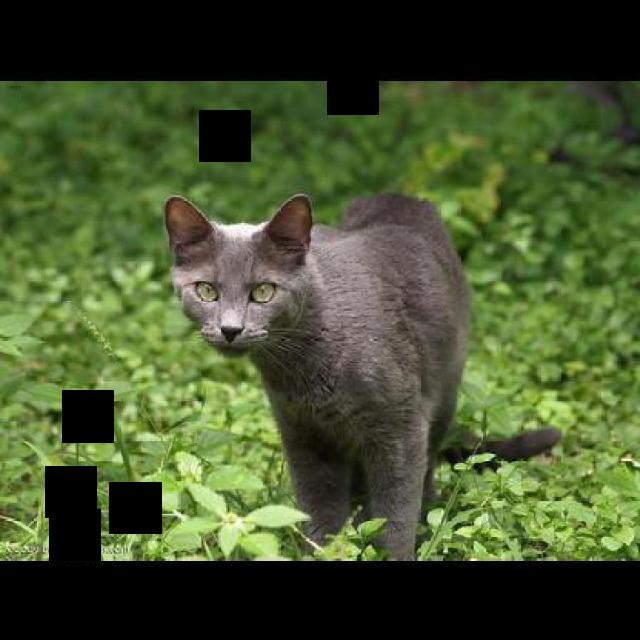unauthorized: (163, 190, 562, 558)
